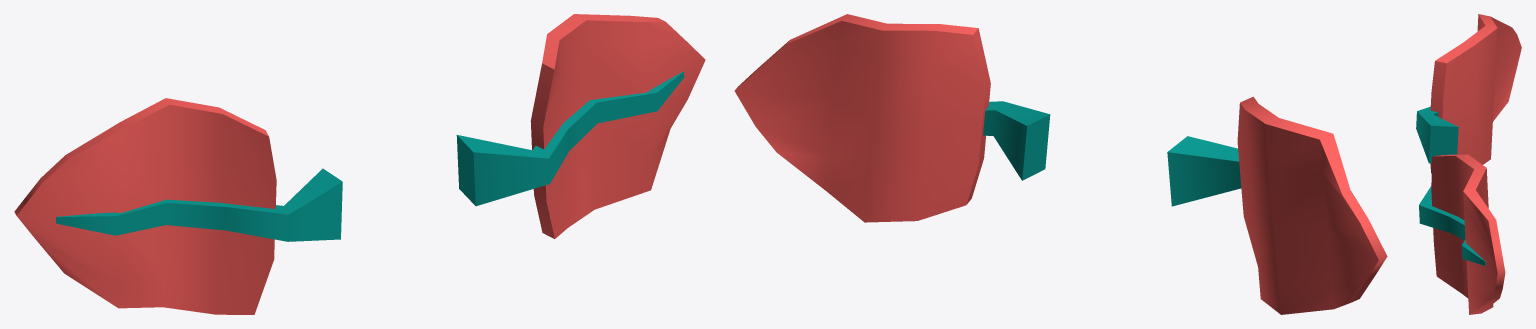
Rendered from Monster_2_Leafs.FBX.
The picture shows the model from 3 angles, left to right: view 1: azimuth 30°, elevation 25°; view 2: azimuth 150°, elevation 25°; view 3: azimuth 270°, elevation 25°; orthographic projection. The views are drawn at different scales.
Visible parts, largest first — view 1: Box014, Box010, Box013, Box009; view 2: Box010, Box014, Box013, Box009; view 3: Box014, Box010, Box013, Box009.
Boxes of the visible parts, box(x1,y1,x2,y2) form: Box014: box(14, 98, 276, 314); Box010: box(530, 14, 705, 238); Box013: box(56, 168, 342, 241); Box009: box(456, 71, 684, 206); Box010: box(734, 14, 990, 222); Box014: box(1237, 96, 1387, 314); Box013: box(1167, 136, 1241, 206); Box009: box(983, 101, 1050, 180); Box014: box(1430, 14, 1521, 173); Box010: box(1431, 154, 1505, 314); Box013: box(1416, 106, 1458, 163); Box009: box(1419, 186, 1485, 265).
Bounding box in the file's own units: 21.97 × 6.37 × 4.32.
